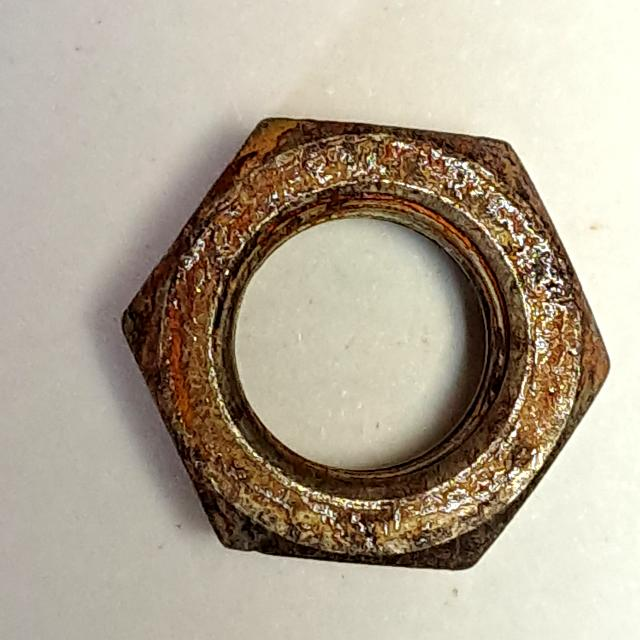Rust: (111, 98, 619, 595)
